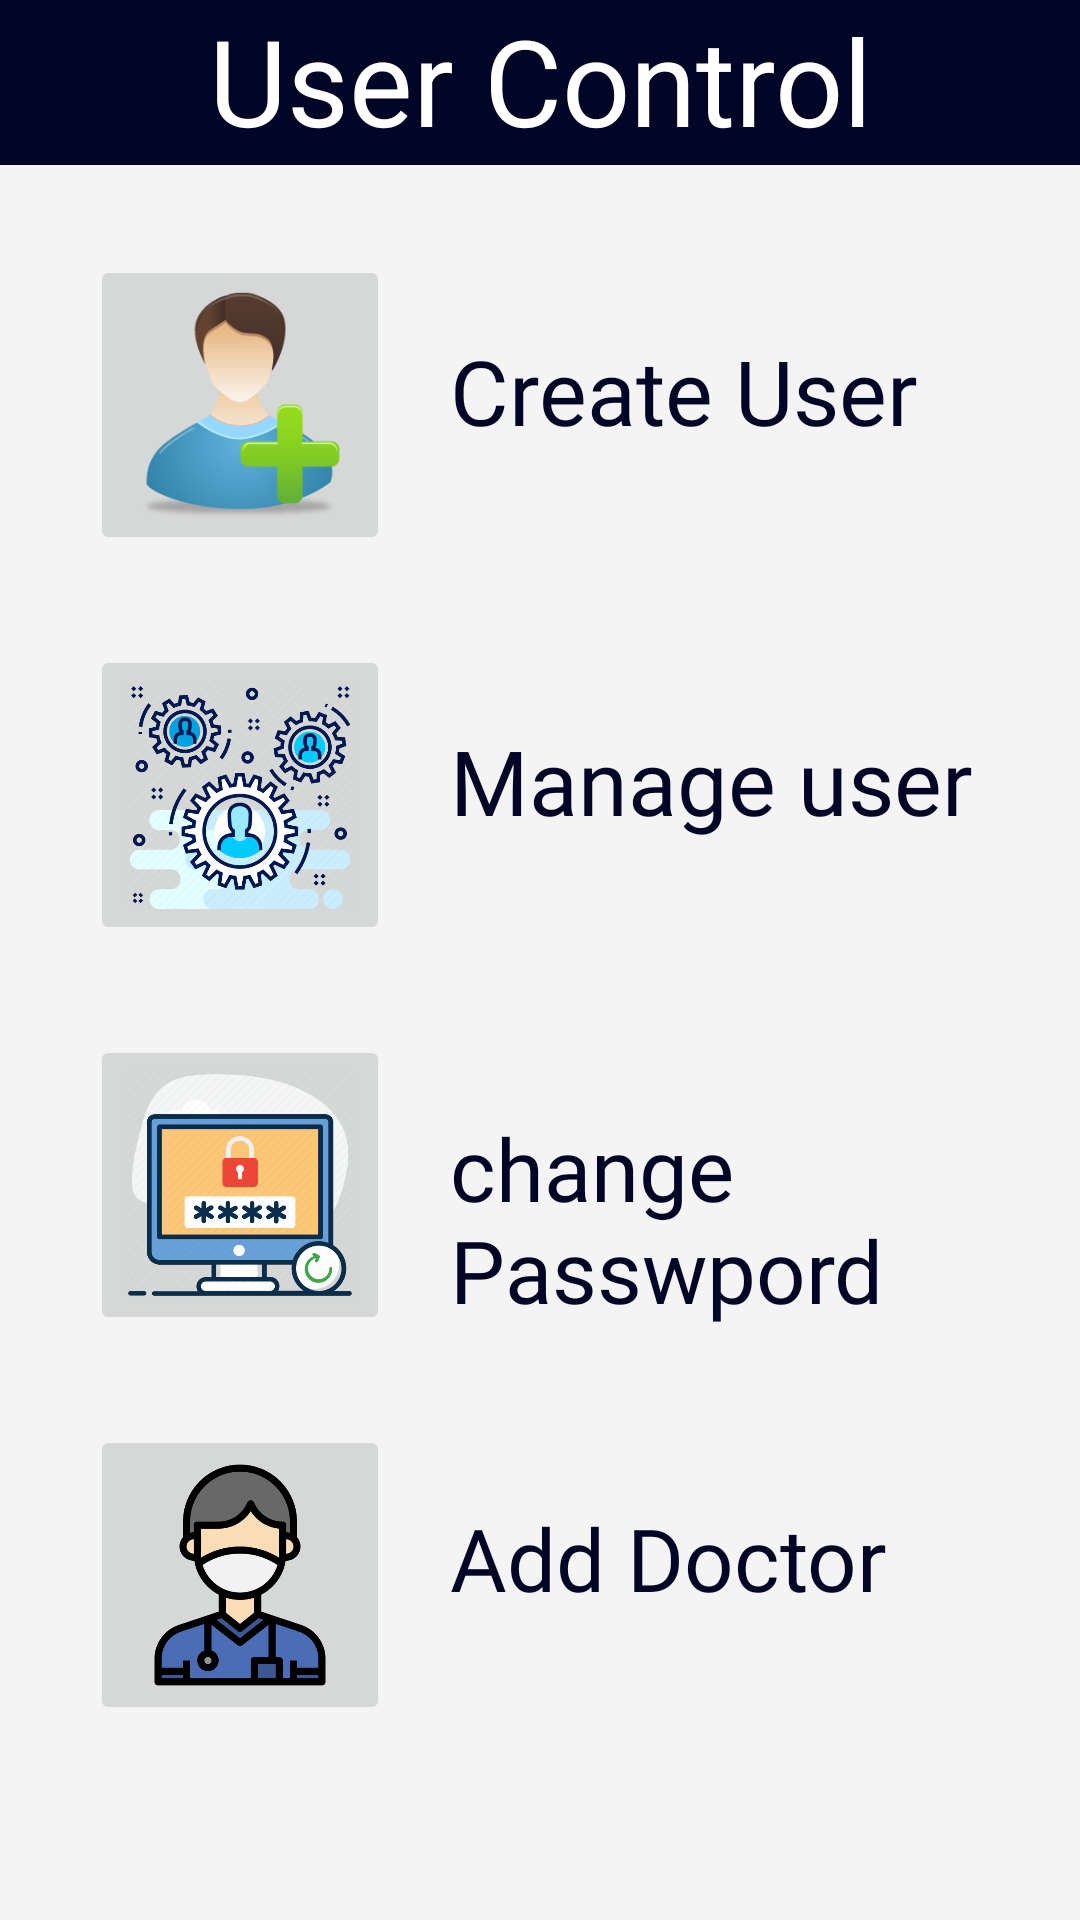

Icons on this 1080 x 1920 Android screen, each with its box as (x1, y1, x2, y2):
doctoricon: (102, 1443, 378, 1707)
mangeuser: (102, 663, 378, 927)
newuser: (102, 273, 378, 537)
repass: (102, 1053, 378, 1317)
